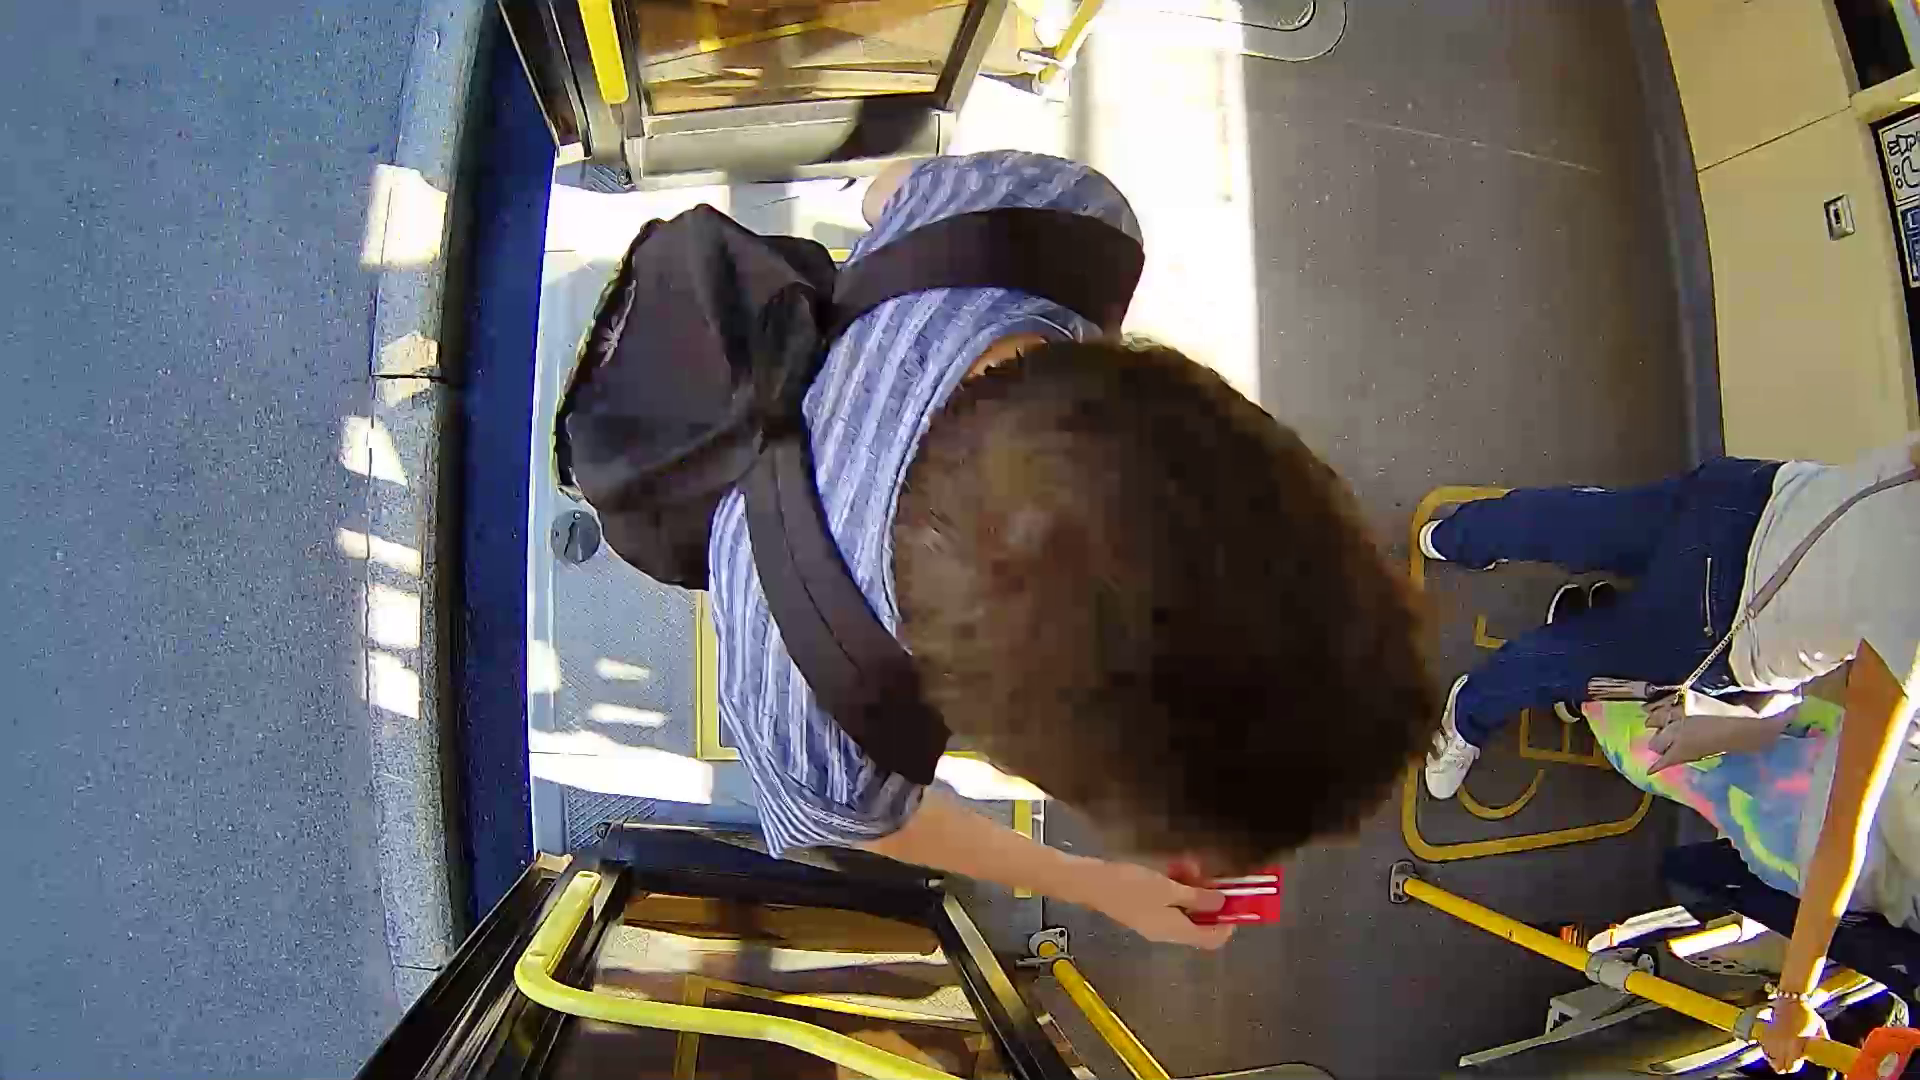person: (519, 172, 1397, 972)
